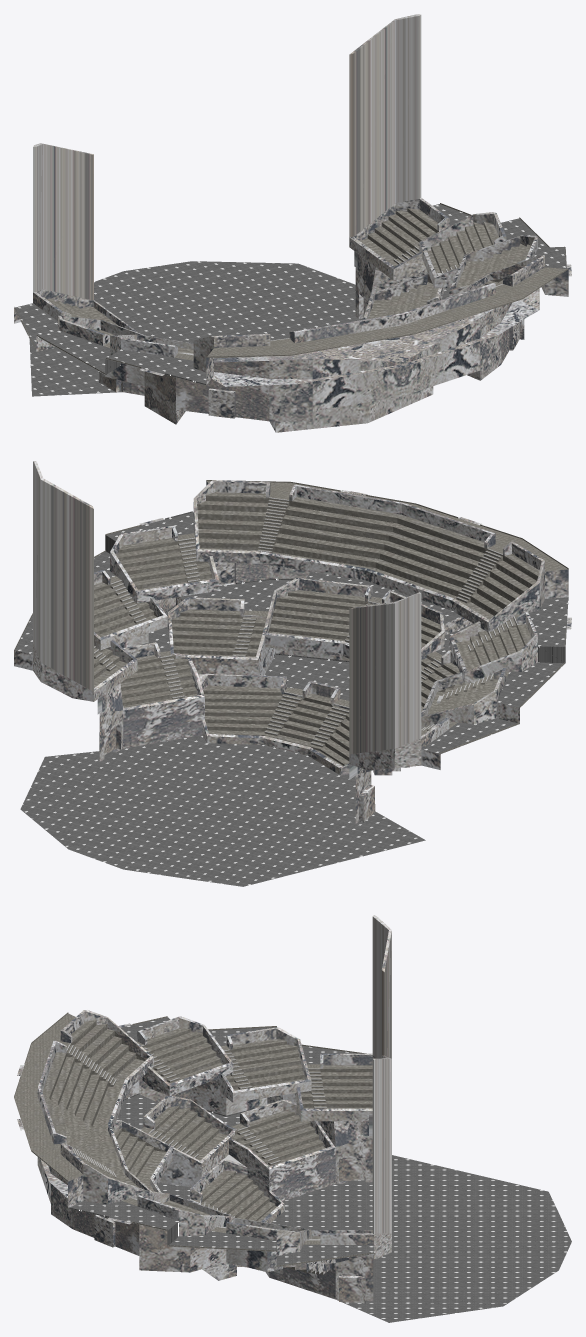
3 renders of one model, top to bottom at view 1: azimuth 30°, elevation 25°; view 2: azimuth 150°, elevation 25°; view 3: azimuth 270°, elevation 25°, orthographic. The views are drawn at different scales.
Parts seen in each view (by area): view 1: Object009_LOD0; view 2: Object009_LOD0; view 3: Object009_LOD0.
Part boxes in pixels (x1,y1,x2,y2): Object009_LOD0: (14, 14, 571, 432); Object009_LOD0: (14, 461, 571, 886); Object009_LOD0: (14, 915, 571, 1322).
Bounding box in the file's own units: 5100 × 5340 × 2874.
